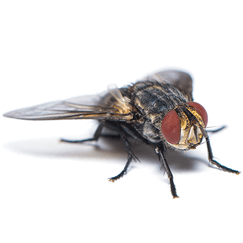fly: (2, 69, 243, 202)
